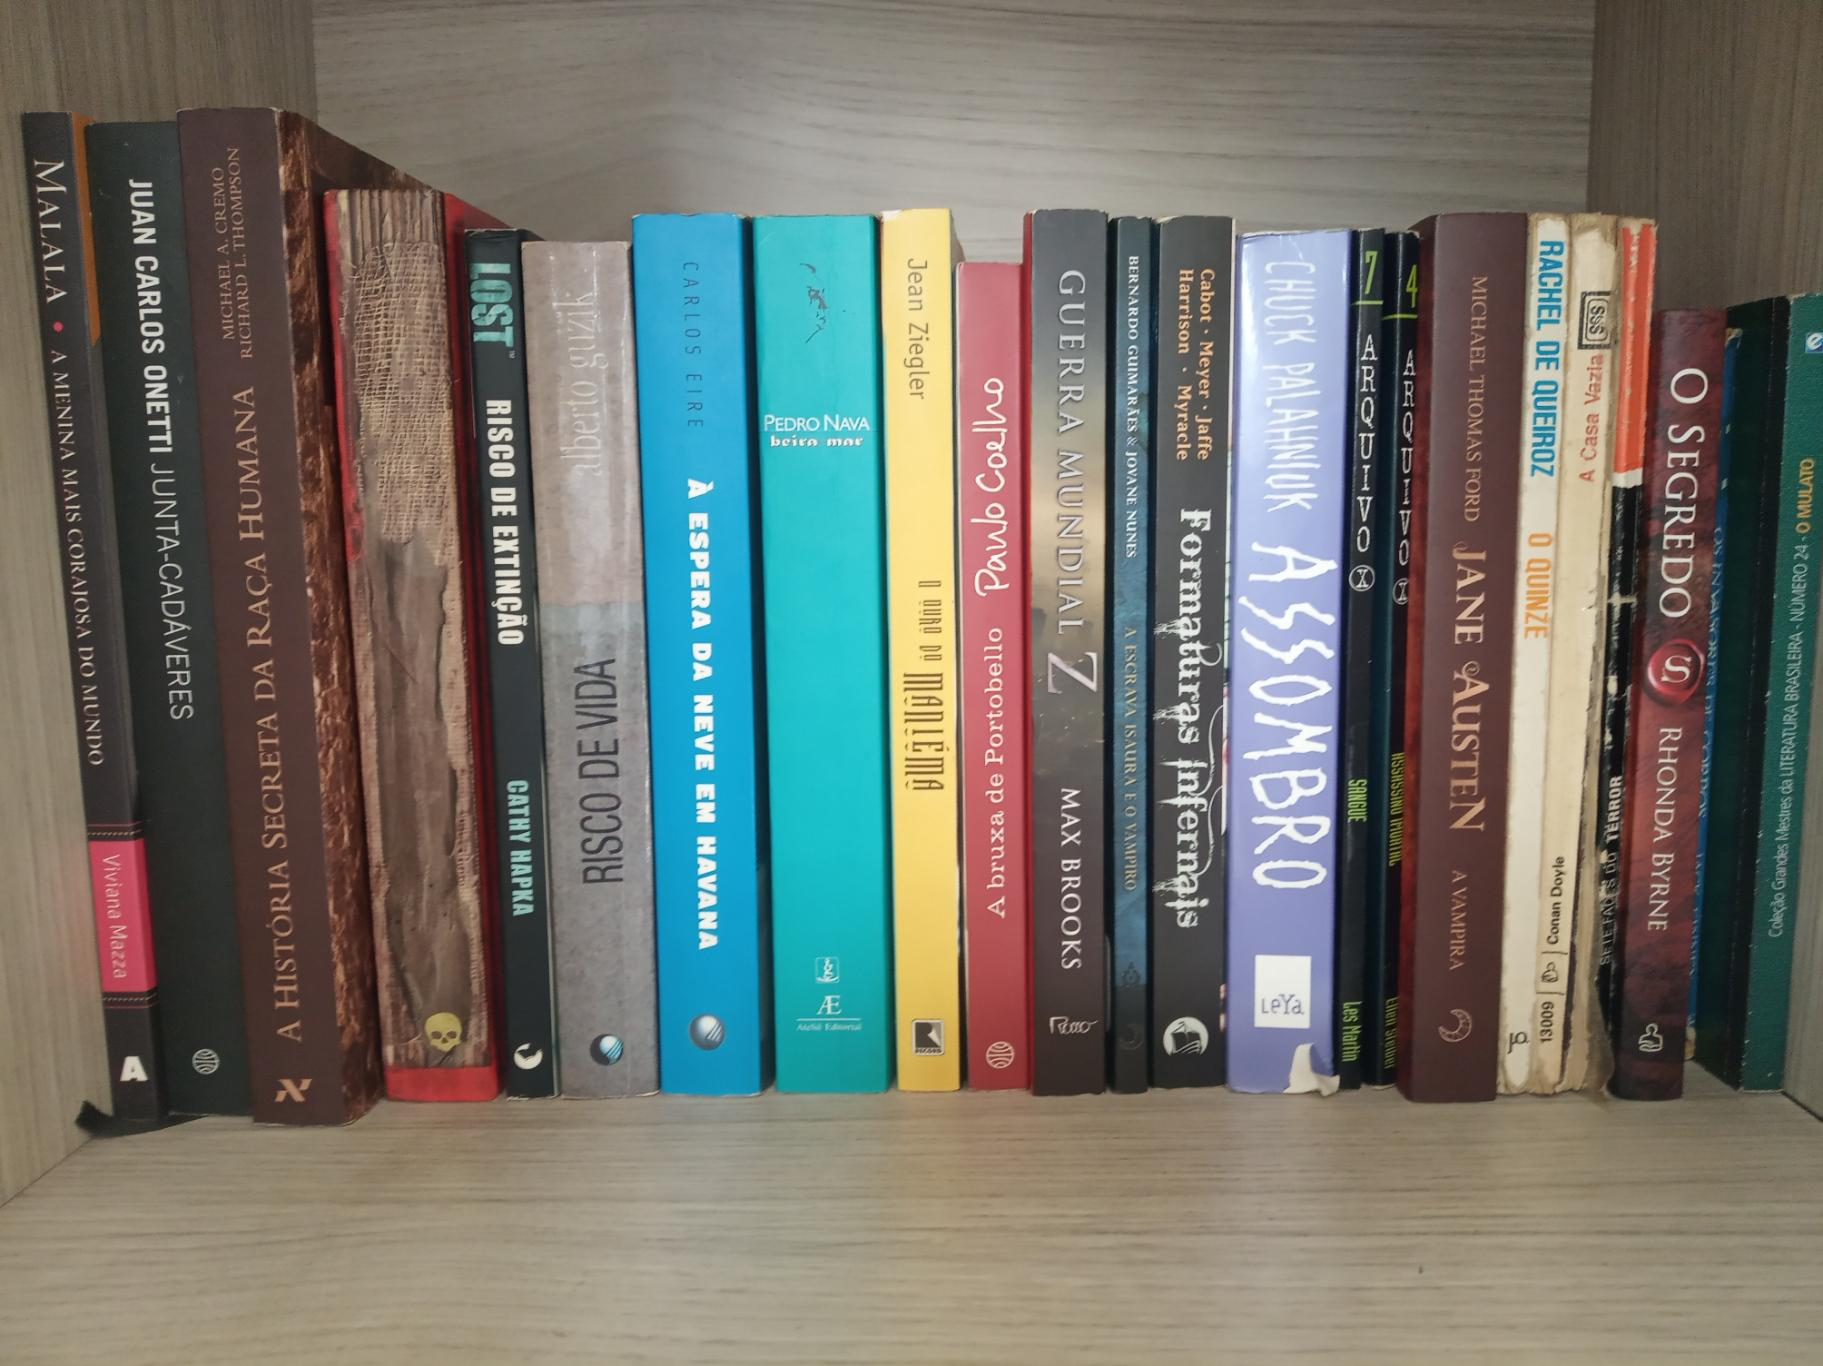book: (780, 228, 865, 1088), (546, 231, 625, 1080), (1244, 232, 1322, 1082), (674, 230, 734, 1083), (1043, 212, 1100, 1080), (892, 214, 947, 1093), (1168, 230, 1222, 1082), (974, 270, 1028, 1083), (1122, 240, 1147, 1069), (502, 250, 526, 1080)
